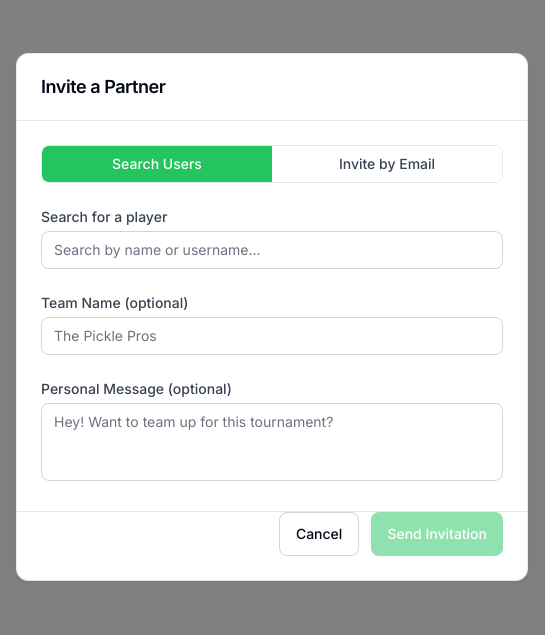
Test: PartnerInviteModal › User Search Autocomplete › shows loading state during search
Type "pla" into the field with placeholder "Search by name or username..." at (272, 250), box top-left (41, 231), bottom-right (503, 269)
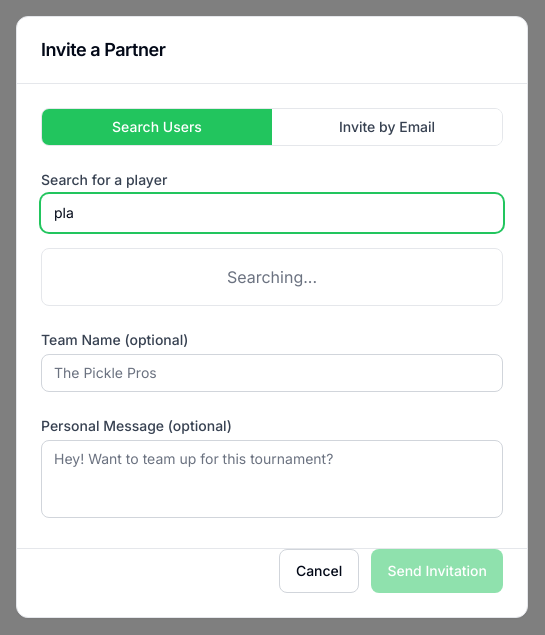
Expected: the text "Searching..." is shown, top-left (227, 267), bottom-right (317, 287)
